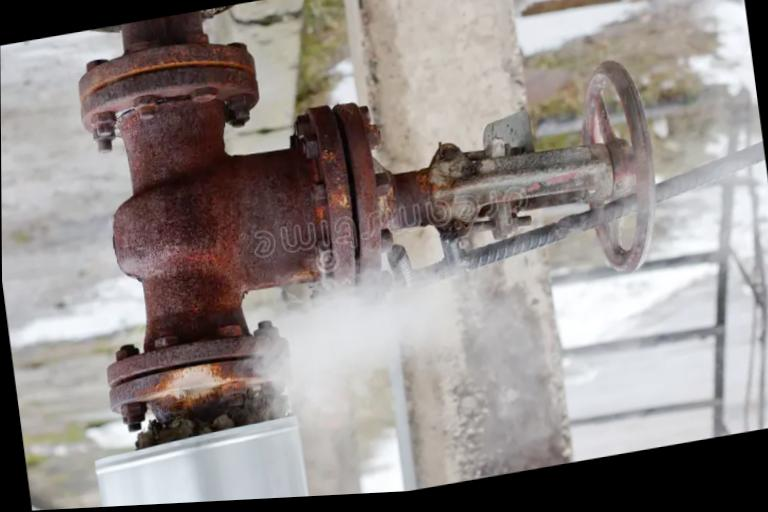leak: (226, 265, 597, 420)
